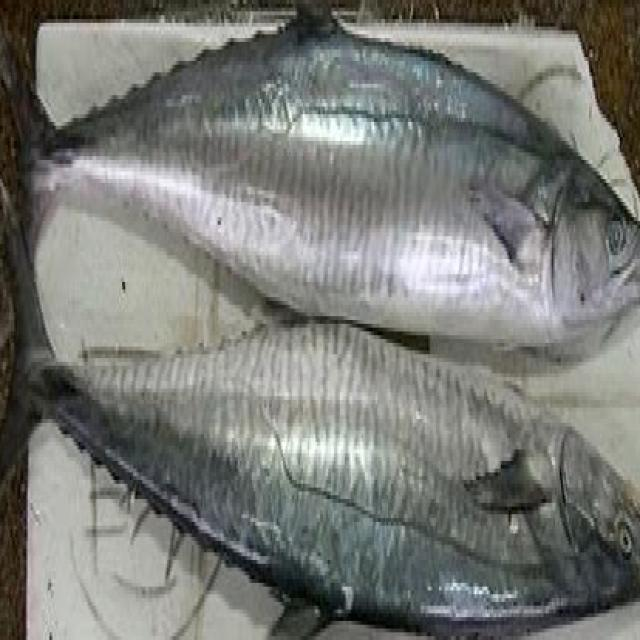seer: (0, 184, 640, 640), (0, 0, 640, 368)
